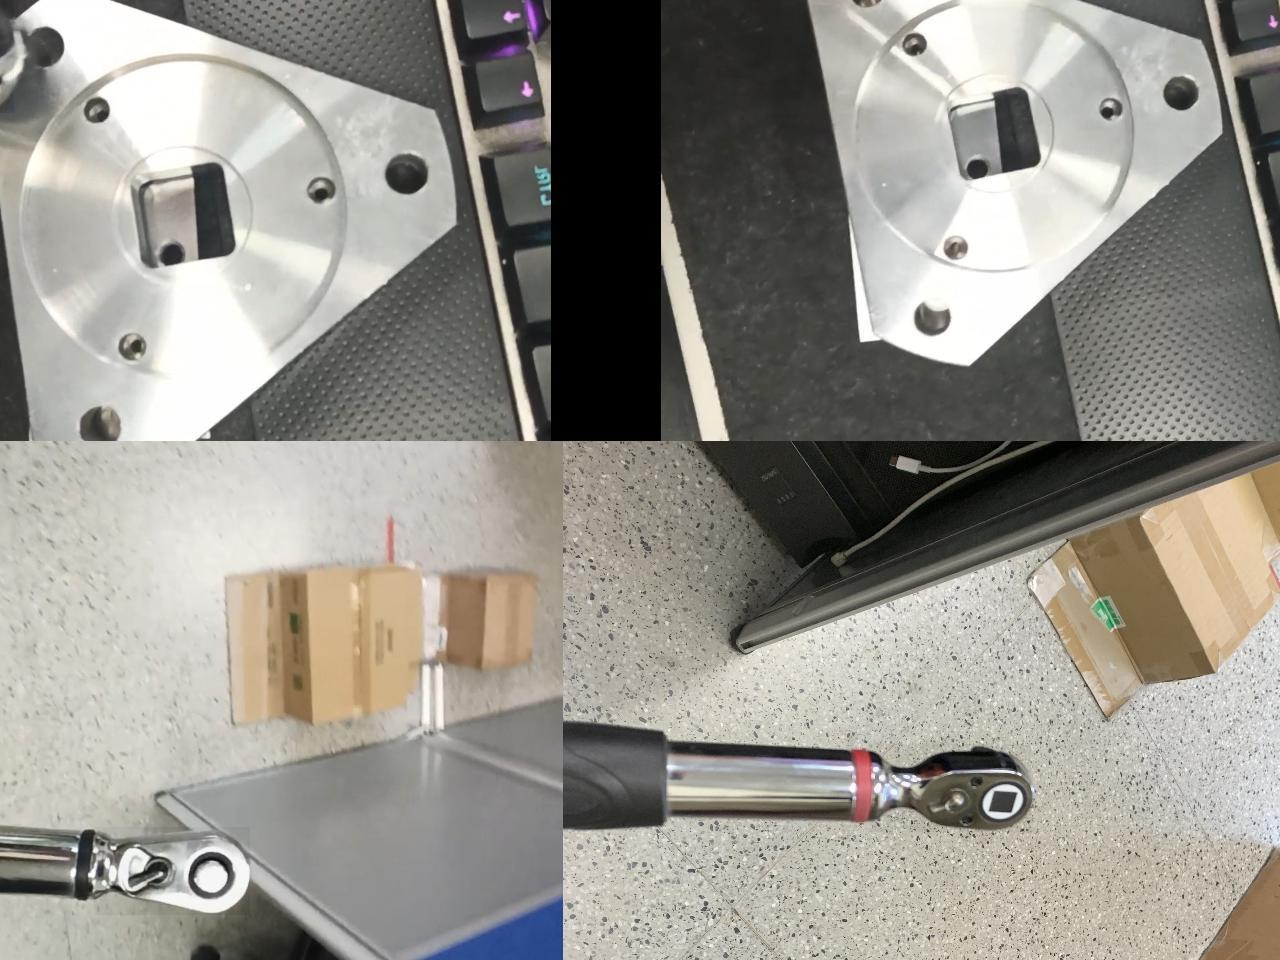Tool: (868, 744, 1030, 832), (93, 827, 249, 915)
